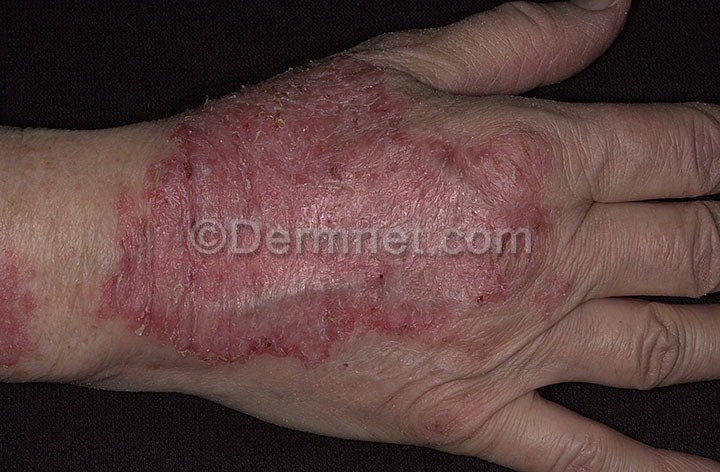Eczema: (110, 122, 587, 372), (188, 49, 422, 121), (1, 230, 51, 387)
